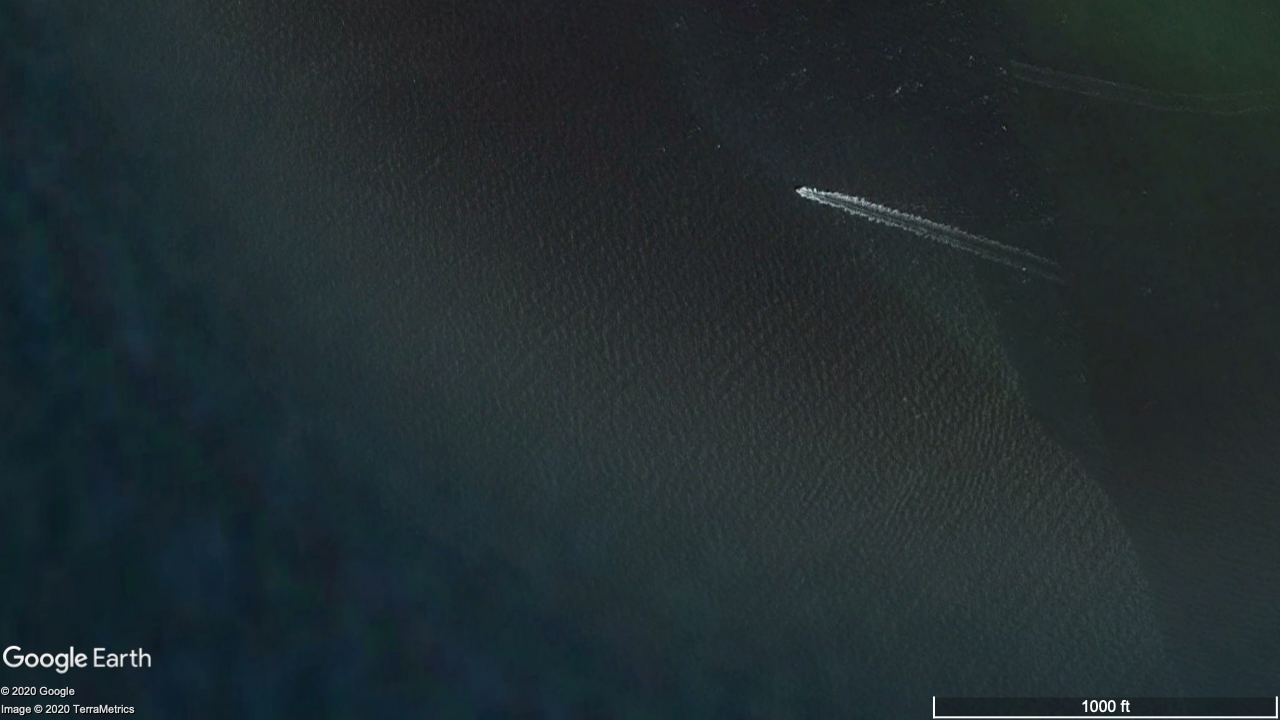satboat: (795, 188, 804, 195)
